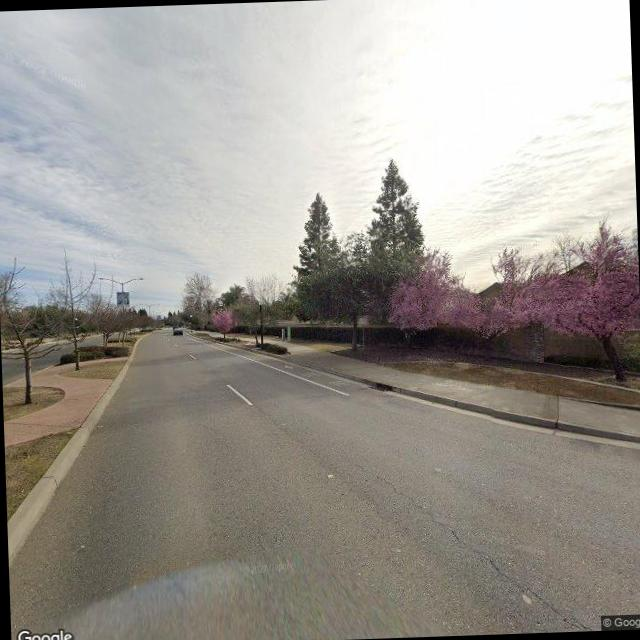pothole: (364, 452, 593, 634)
